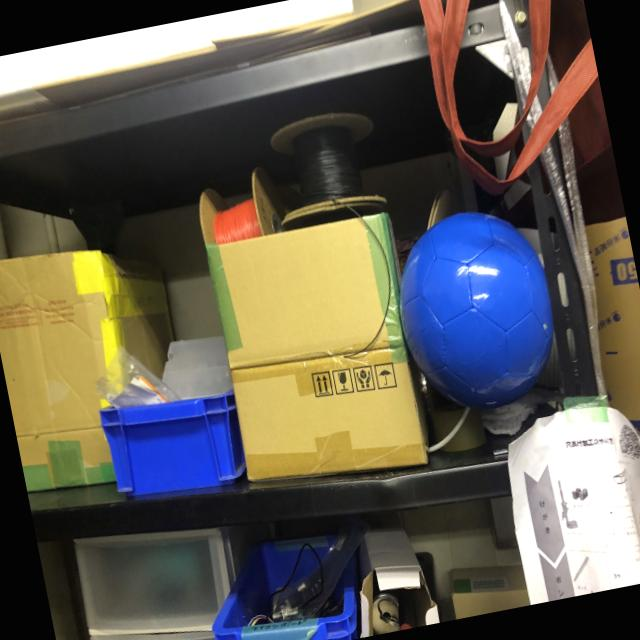blue_ball: (384, 198, 570, 412)
